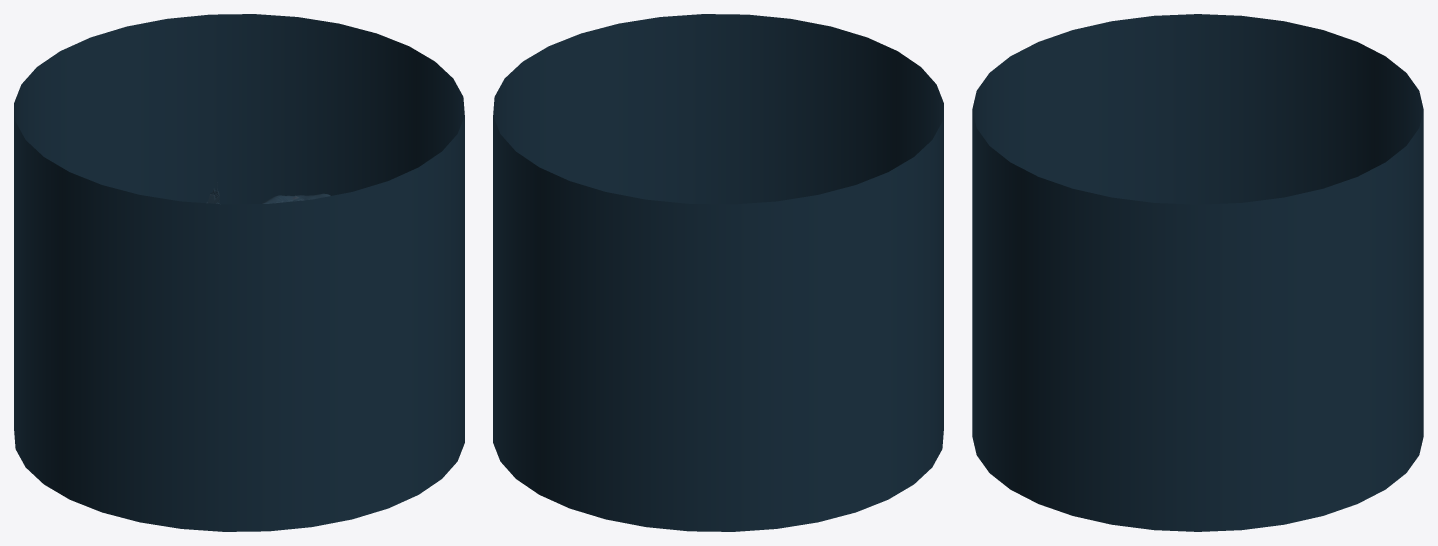
The model's file is env_nur_water_hall_01_pre.glb.
3 renders of one model, left to right at view 1: azimuth 30°, elevation 25°; view 2: azimuth 150°, elevation 25°; view 3: azimuth 270°, elevation 25°, orthographic.
Visible parts, largest first — view 1: gen_bg_mesh; view 2: gen_bg_mesh; view 3: gen_bg_mesh.
Boxes of the visible parts, x1,y1,x2,y2 form: gen_bg_mesh: (14, 14, 464, 531); gen_bg_mesh: (493, 14, 943, 531); gen_bg_mesh: (972, 14, 1423, 531).
Bounding box in the file's own units: 300 × 240 × 300.
13 materials, 13 textured.
